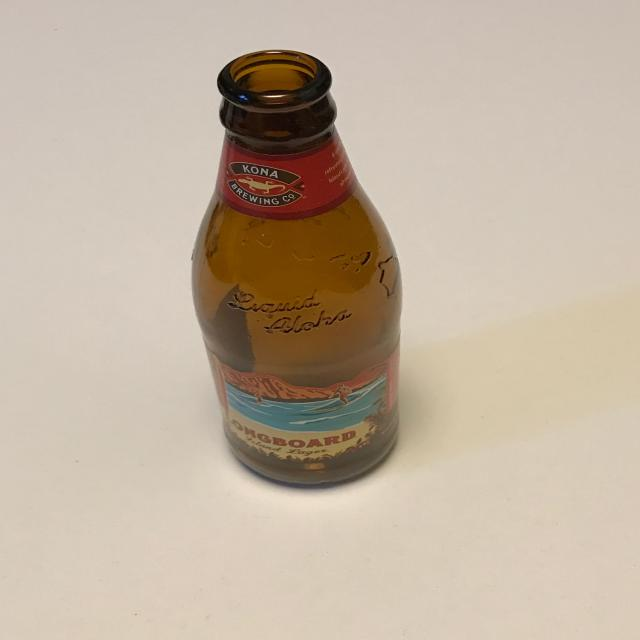glass: (185, 41, 406, 496)
